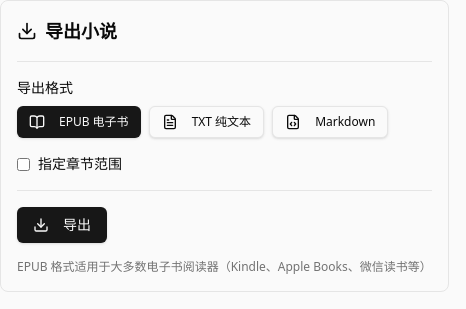
Test: ExportPanel › shows error badge on failed export
Click the button with test id "export-button" at [62, 225], box [17,207,107,243]
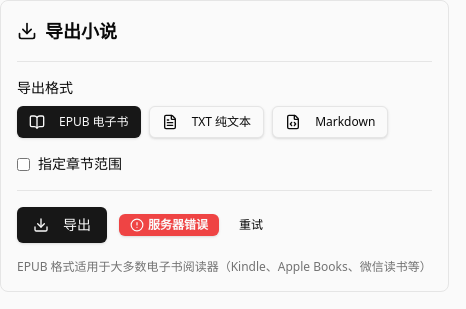
Expected: the element with test id "export-error" is shown, [119,214,219,236]
